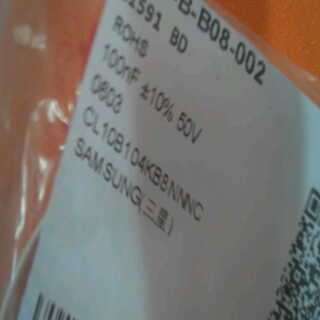100nF: (101, 42, 146, 86)
